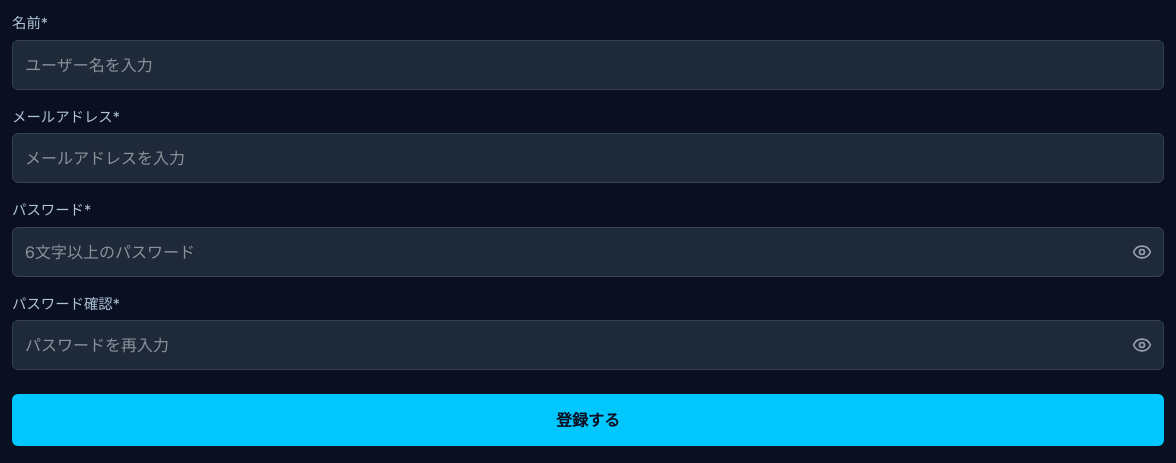
Test: RegisterForm › Registration & 2FA Flow › should switch to OTP step when backend requires 2FA
Note: 有効なデータを入力
Type "Test User" into the field with placeholder "ユーザー名を入力" at (588, 65), box top-left (12, 40), bottom-right (1164, 90)
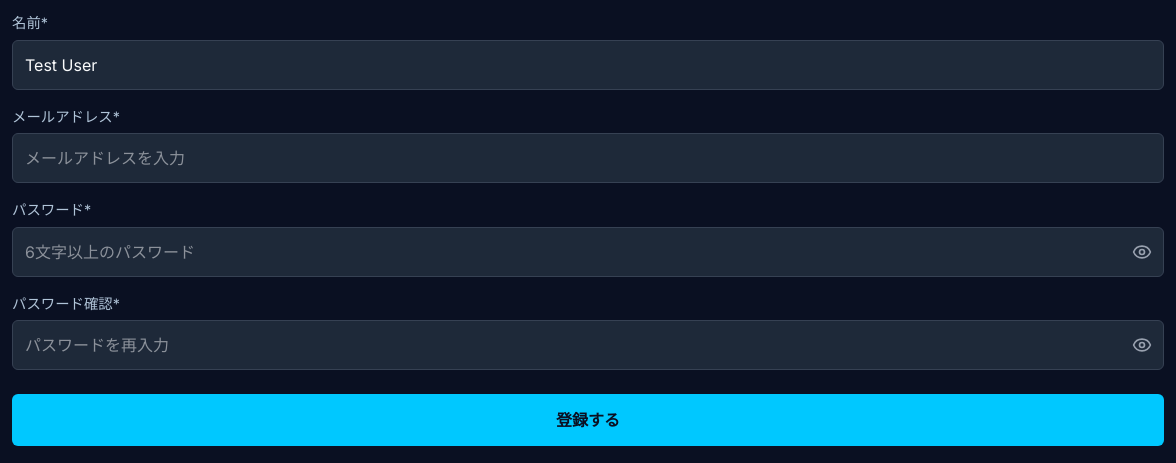
Type "test@example.com" into the field with placeholder "メールアドレスを入力" at (588, 158), box top-left (12, 133), bottom-right (1164, 183)
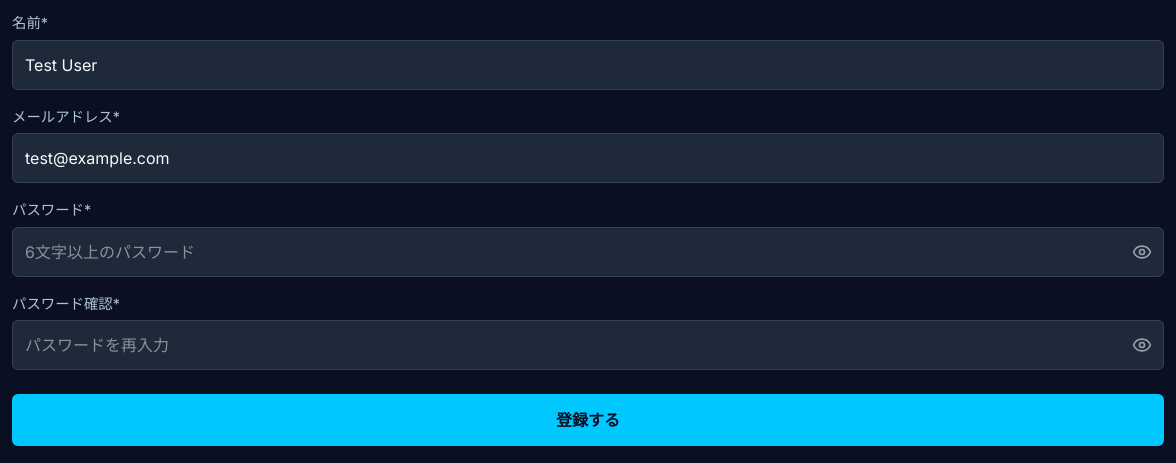
Type "password123" into the password field with placeholder "6文字以上のパスワード" at (588, 252), box top-left (12, 227), bottom-right (1164, 277)
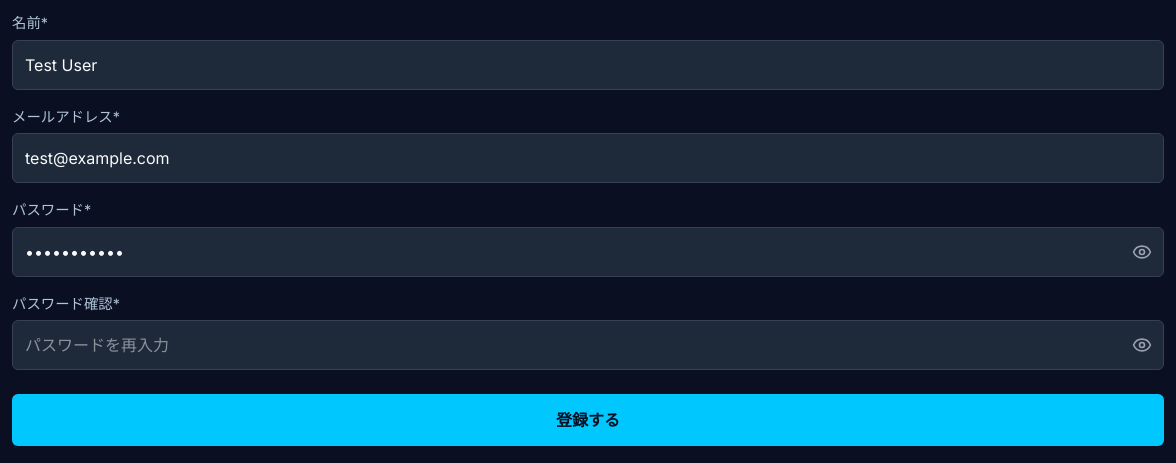
Type "password123" into the password field with placeholder "パスワードを再入力" at (588, 345), box top-left (12, 320), bottom-right (1164, 370)
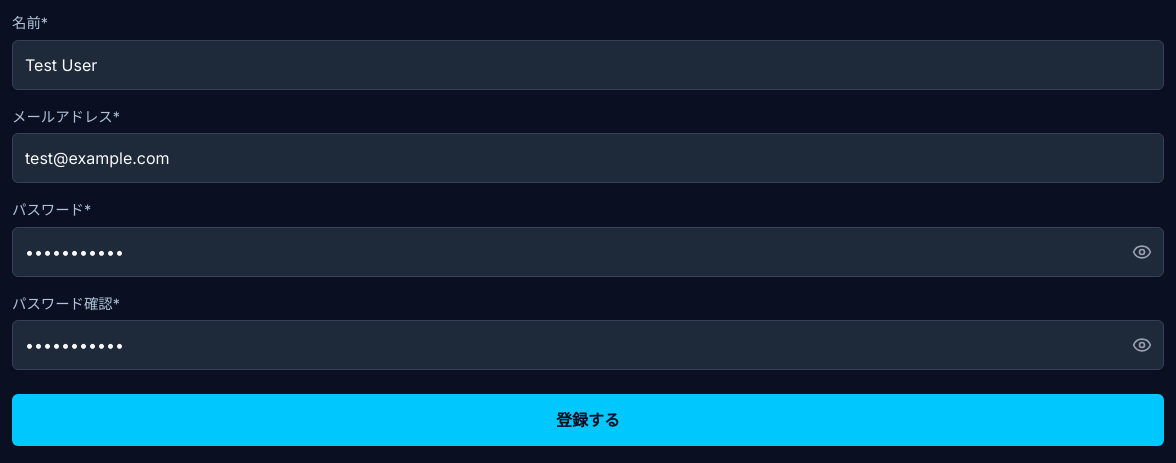
Click the button "登録する" at (588, 420), box top-left (12, 394), bottom-right (1164, 446)
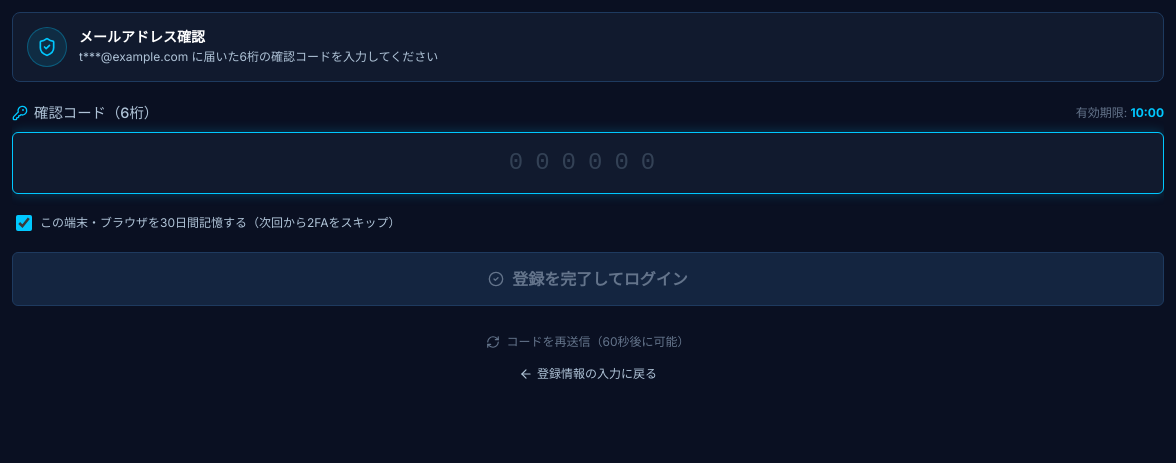
Check: the field labelled "確認コード（6桁）" is shown, box top-left (12, 132), bottom-right (1164, 194)
Check: the text "メールアドレス確認" is shown, box top-left (79, 28), bottom-right (205, 45)
Check: the text "メールアドレス確認 t***@example.com に届いた6桁の確認コードを入力してください" is shown, box top-left (79, 27), bottom-right (438, 67)
